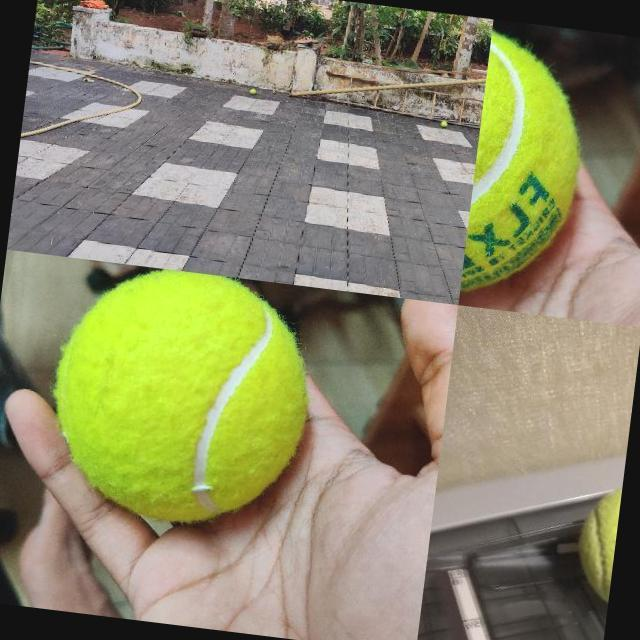Tennis Ball: (41, 257, 322, 535), (460, 31, 592, 304), (567, 470, 623, 611), (440, 120, 448, 127), (250, 88, 257, 94)
